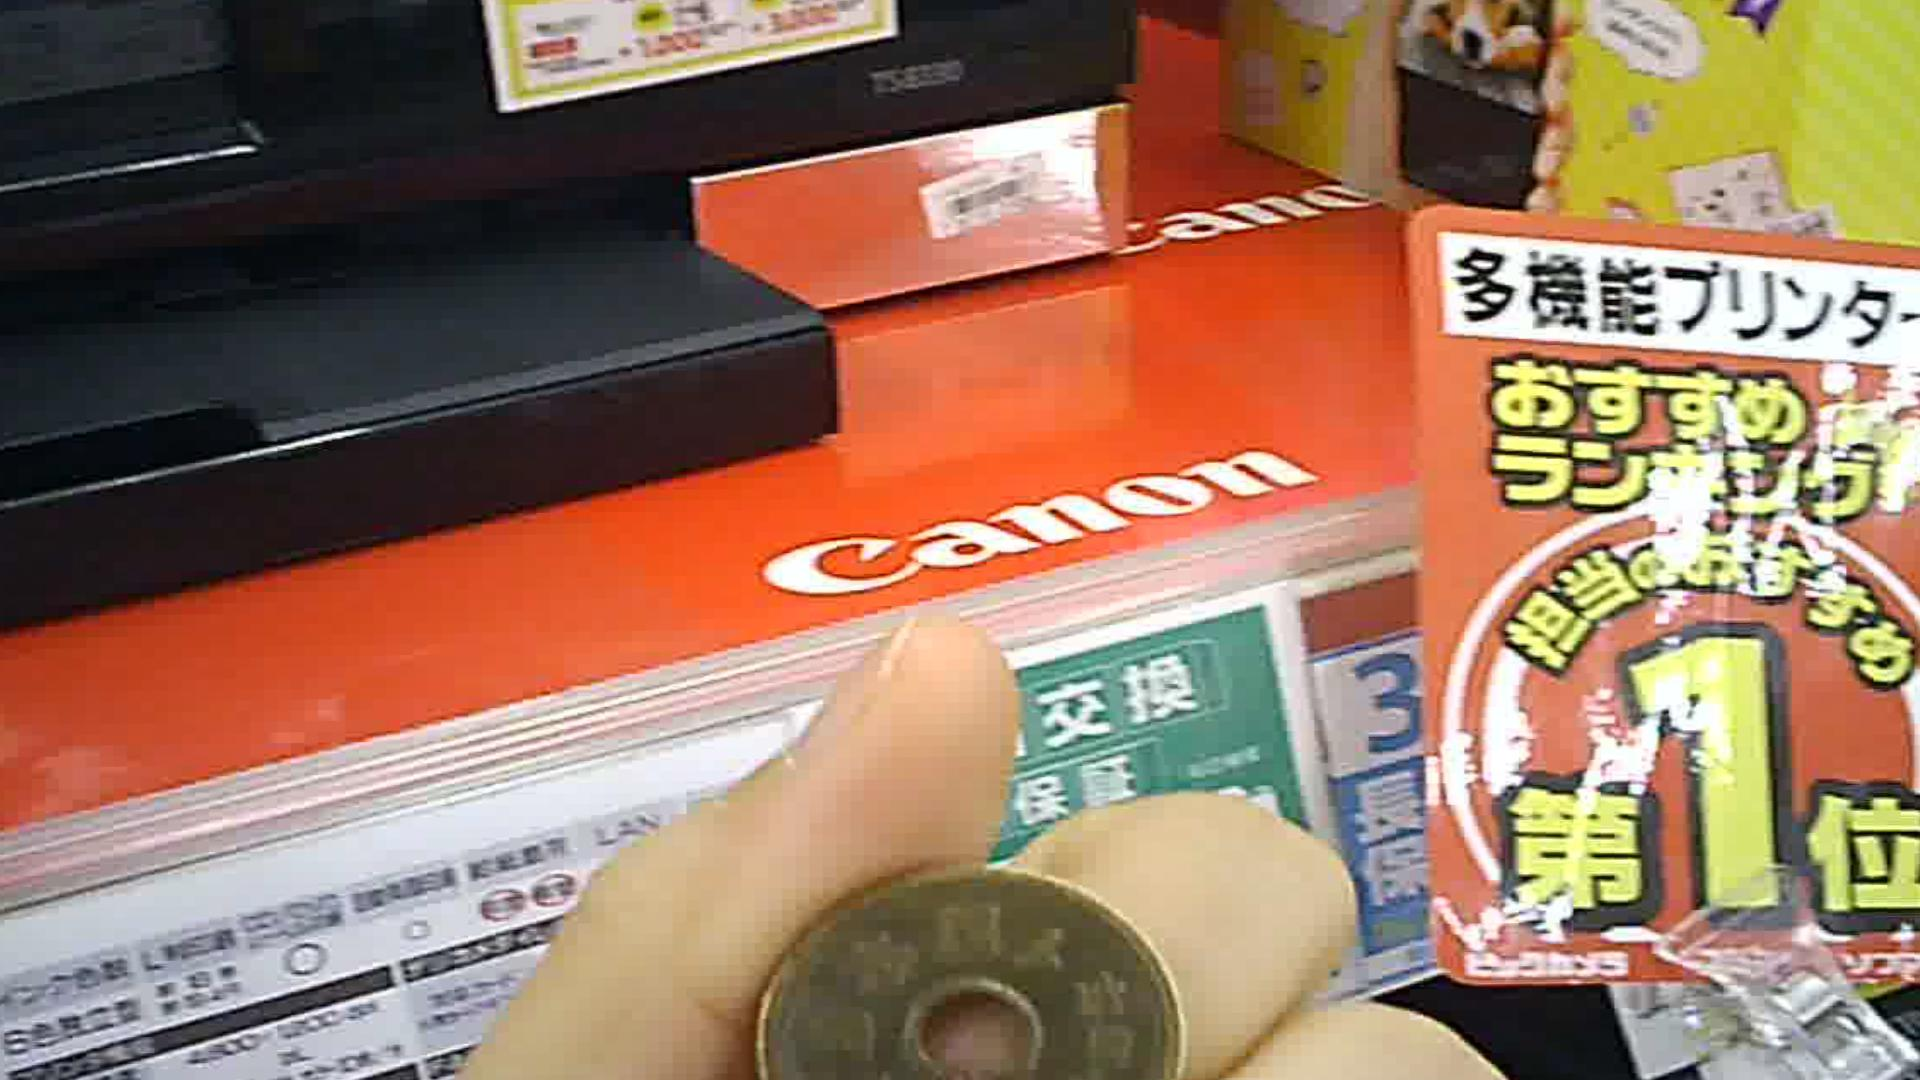5 Yen: (735, 848, 1193, 1068)
